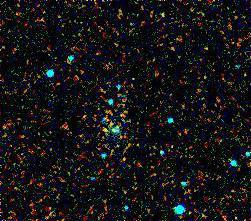star: (87, 117, 117, 147)
